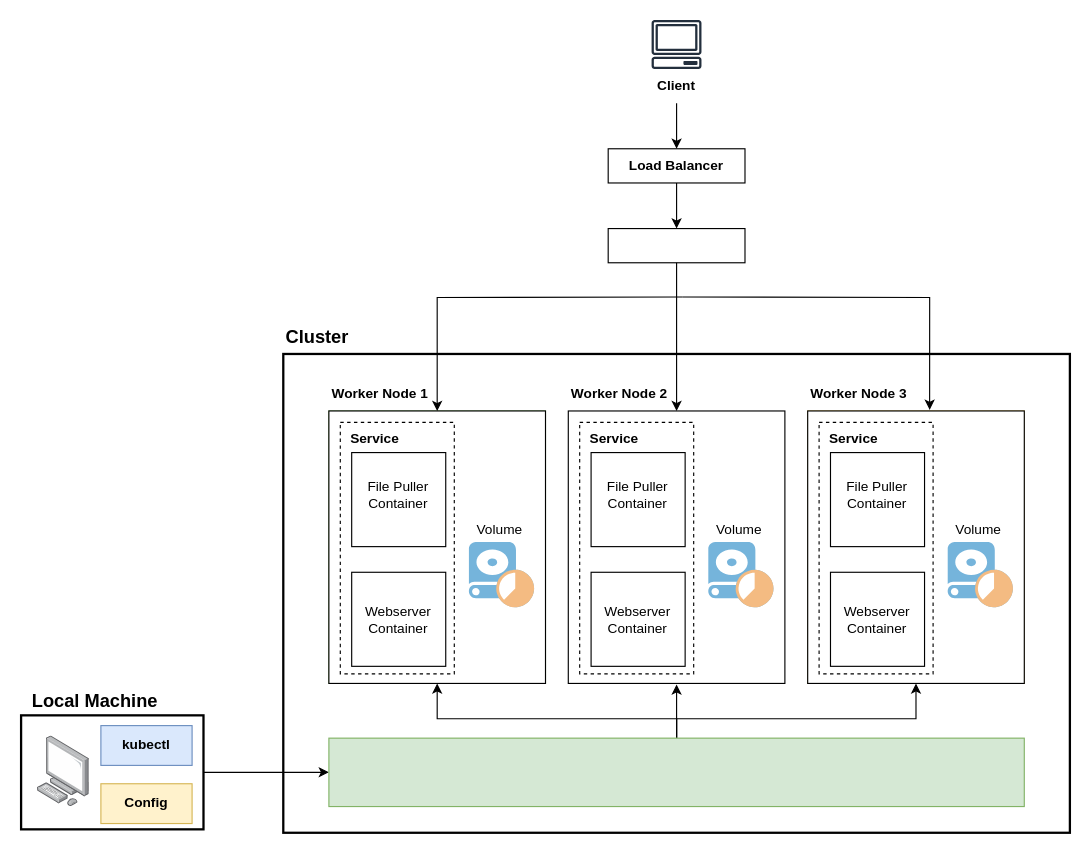
The diagram is 1090 pixels wide and 853 high, and some of its shapes have lost their labels. Each missing label, with the centre of its shape:
Ingress: pixel 676 245
Master Node: pixel 676 772
